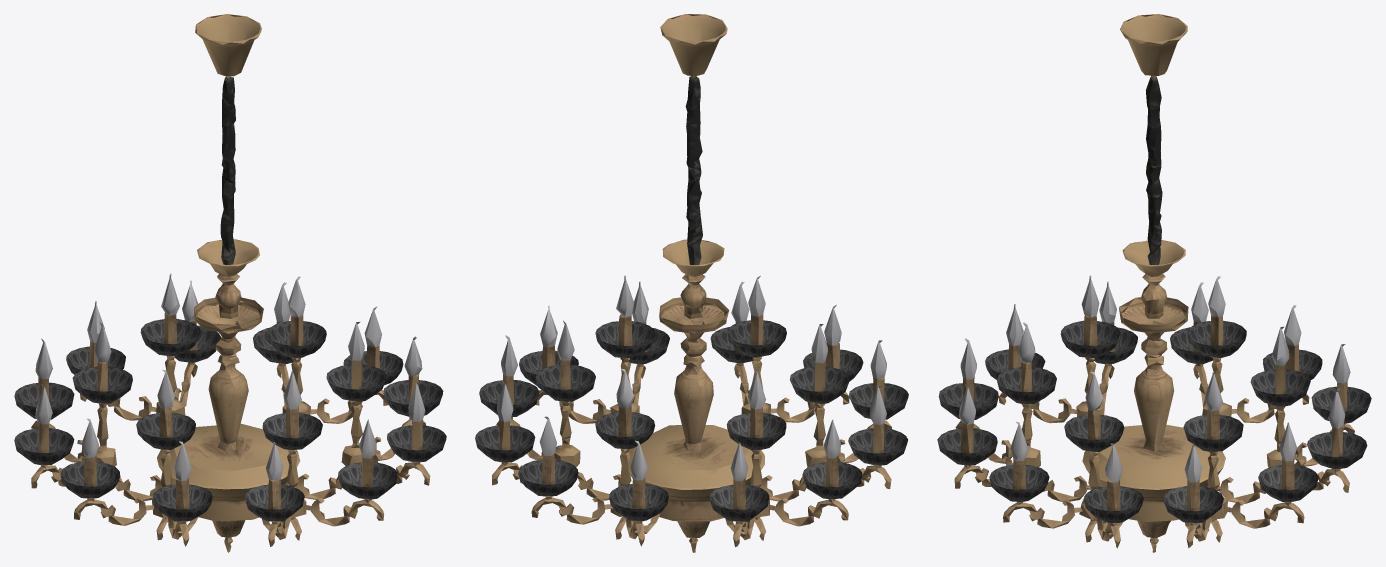
Rendered from chandelier-crystal.lod1.glb.
3 views of the same model, side by side, from view 1: azimuth 30°, elevation 25°; view 2: azimuth 150°, elevation 25°; view 3: azimuth 270°, elevation 25° (orthographic).
Visible parts, largest first — view 1: chandelier-crystal; view 2: chandelier-crystal; view 3: chandelier-crystal.
Part boxes in pixels (<box>): chandelier-crystal: <box>14,14,446,552</box>; chandelier-crystal: <box>475,14,908,552</box>; chandelier-crystal: <box>937,14,1371,552</box>.
Size of the model in its own units: 0.7839 by 1.04 by 0.7799.
Materials: 2 (2 with a texture image).
